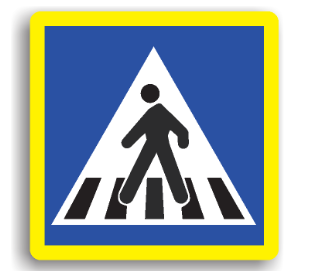trecere_pietoni: (28, 10, 280, 262)
